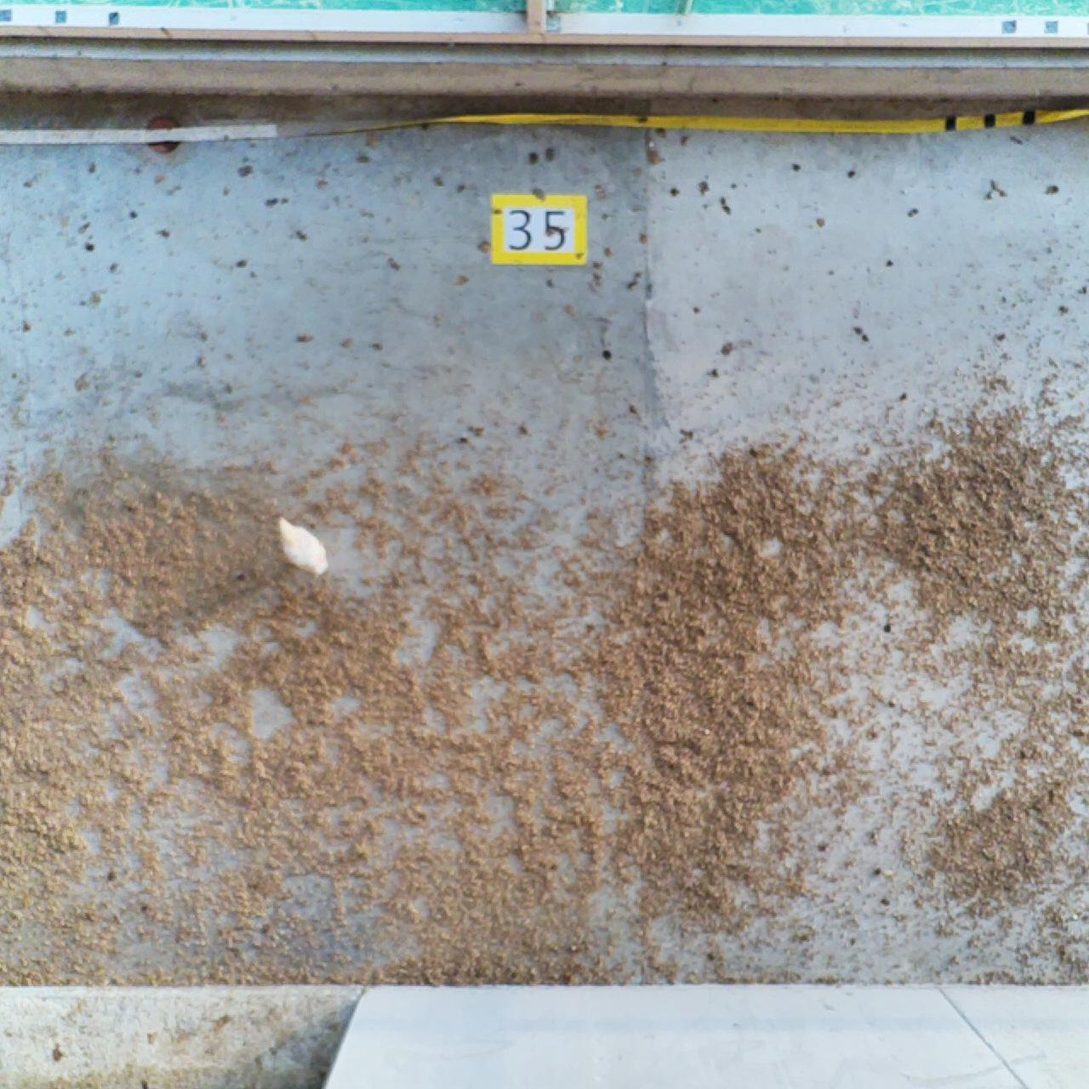chicken: (277, 516, 327, 573)
